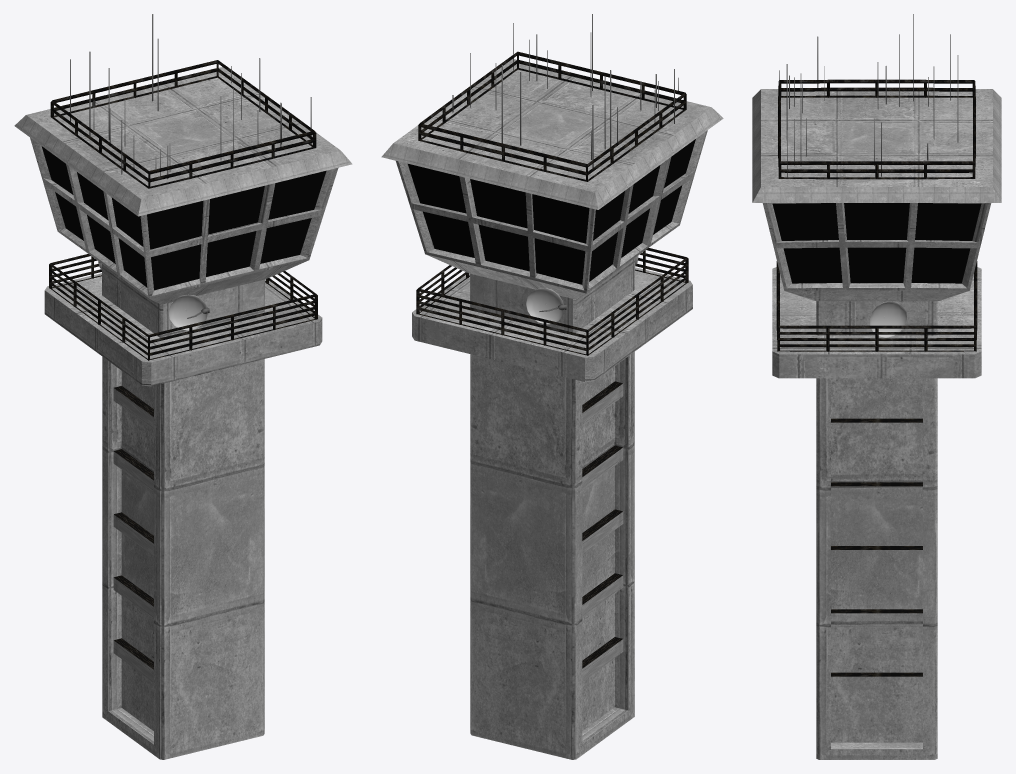
3 views of the same model, side by side, from view 1: azimuth 30°, elevation 25°; view 2: azimuth 150°, elevation 25°; view 3: azimuth 270°, elevation 25° (orthographic).
Parts seen in each view (by area): view 1: AirControlTower; view 2: AirControlTower; view 3: AirControlTower.
Boxes of the visible parts, x1,y1,x2,y2 form: AirControlTower: (14,14,352,759); AirControlTower: (381,14,723,759); AirControlTower: (752,14,1001,759).
Bounding box in the file's own units: 0.8433 × 2.55 × 0.8433.
6 materials, 2 textured.
